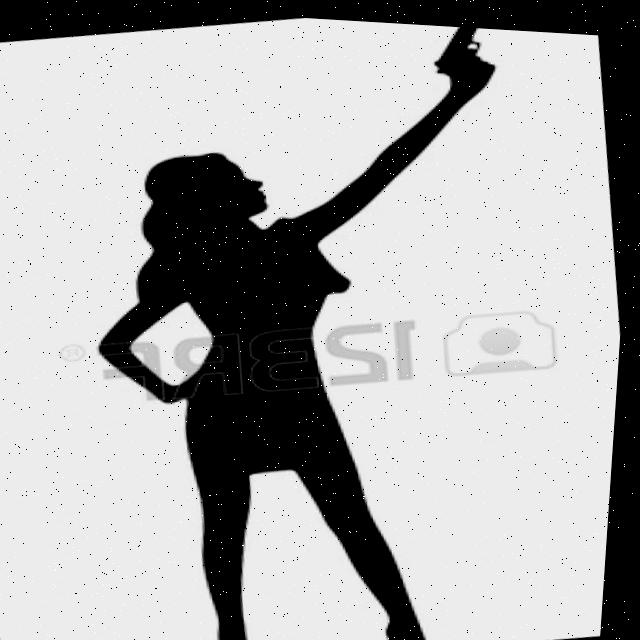pistol: (422, 20, 496, 72)
